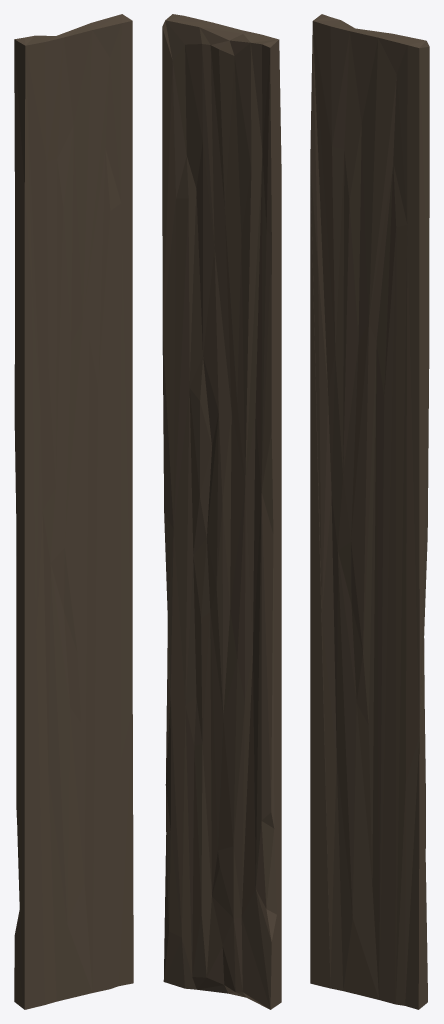
The model's file is SM_wooden_rod_04.fbx.
3 views of the same model, side by side, from view 1: azimuth 30°, elevation 25°; view 2: azimuth 150°, elevation 25°; view 3: azimuth 330°, elevation 25° (orthographic).
Visible parts, largest first — view 1: wooden_rod_04; view 2: wooden_rod_04; view 3: wooden_rod_04.
Boxes of the visible parts, <box> form: wooden_rod_04: <box>14,14,133,1009</box>; wooden_rod_04: <box>162,14,281,1009</box>; wooden_rod_04: <box>310,14,429,1009</box>.
Size of the model in its own units: 44.16 by 373 by 7.88.
